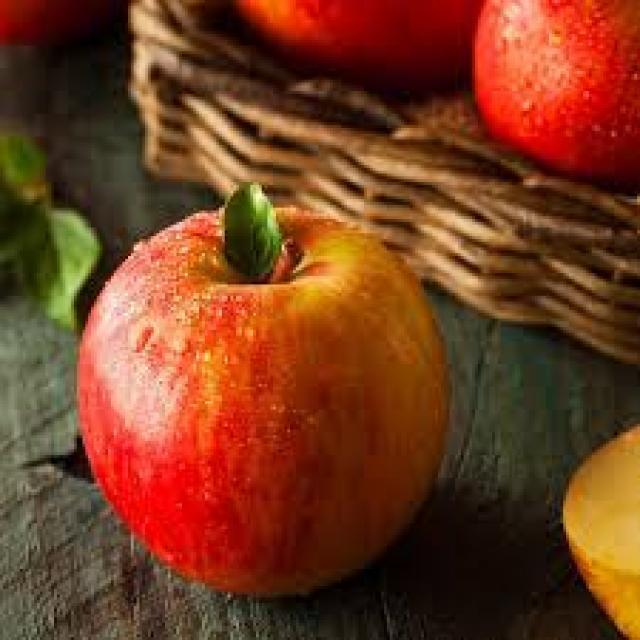Apple: (73, 180, 450, 598), (467, 0, 640, 203), (215, 0, 470, 93)
